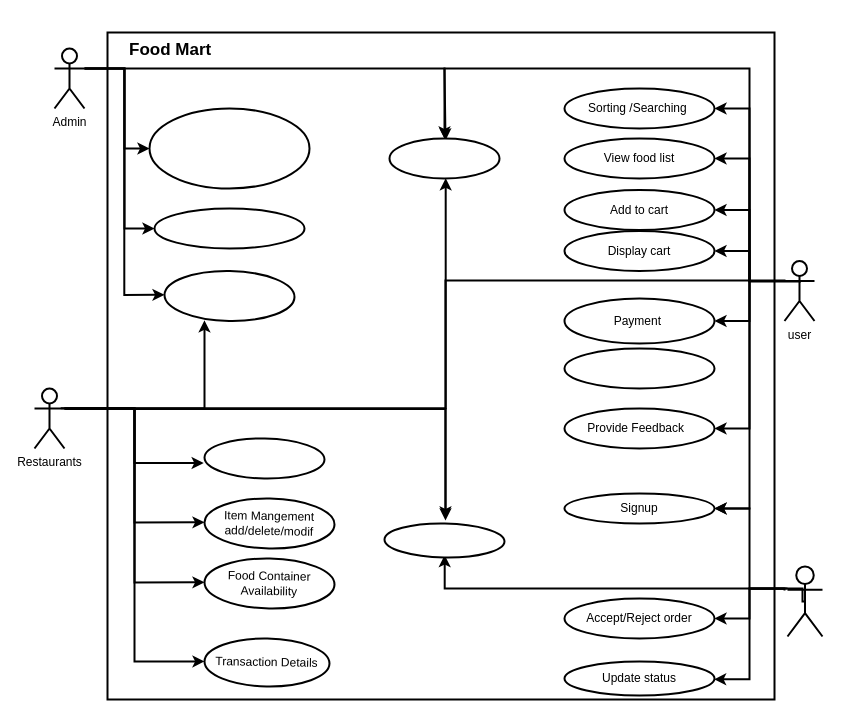
This 865x717 diagram has some shape labels left out. Here are the shapes that lost their labels. From the top down, the box of each, then its label:
(148, 107, 310, 189): crate/modify Restaurants,Delivery partner,User
(388, 137, 500, 179): login
(153, 207, 305, 249): Performance view
(163, 268, 296, 323): Offer Mangement
(563, 347, 715, 389): Details food deliivery parttner
(203, 436, 325, 480): Registration
(383, 521, 505, 559): Notification
(786, 565, 823, 637): Delivery Partner
